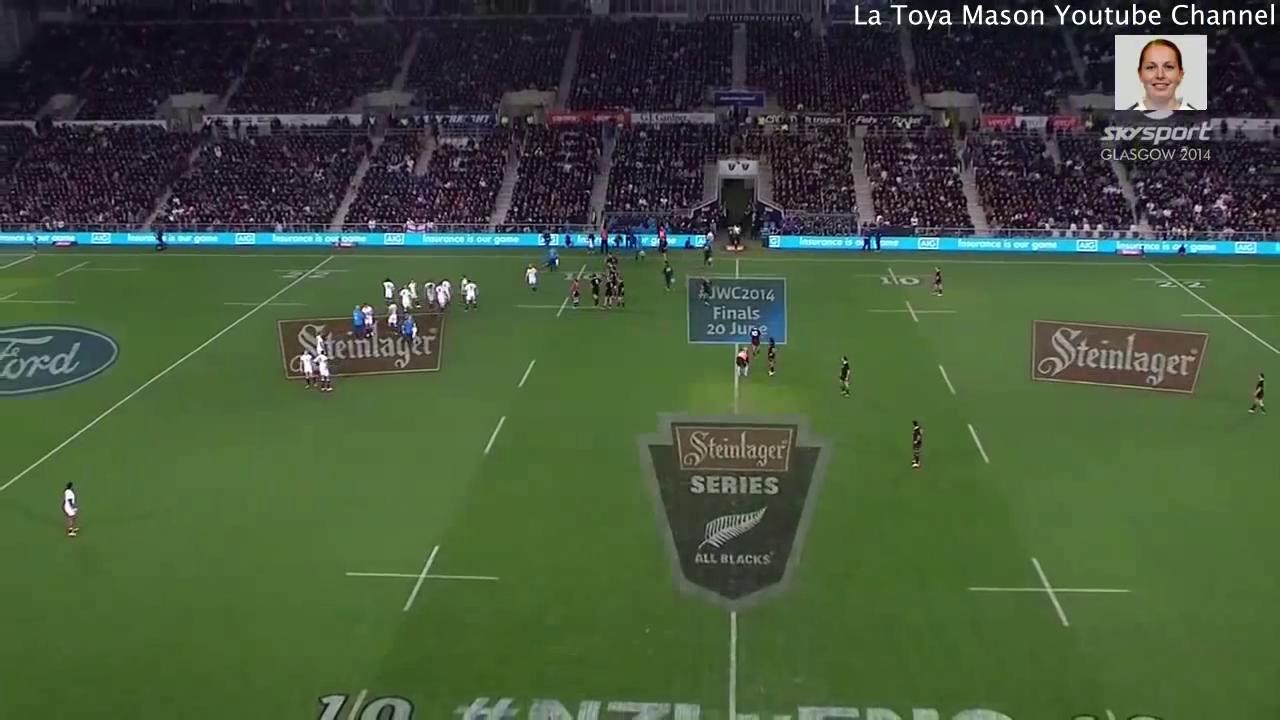10_metre: (963, 552, 1133, 633), (348, 544, 503, 617), (865, 297, 957, 325), (853, 266, 931, 291)
player: (54, 480, 84, 541), (901, 412, 929, 476), (1247, 365, 1272, 419), (834, 348, 857, 402), (657, 260, 679, 297), (765, 333, 783, 377), (316, 350, 333, 392), (522, 260, 541, 297), (730, 345, 751, 377), (929, 261, 945, 300), (601, 271, 615, 315), (567, 276, 583, 309), (349, 301, 365, 334), (589, 272, 604, 307), (399, 316, 416, 345), (382, 276, 397, 307), (604, 251, 626, 272), (383, 301, 400, 328), (465, 280, 479, 312), (698, 278, 714, 304), (364, 302, 376, 336), (613, 277, 626, 308), (301, 347, 311, 386), (396, 288, 412, 311), (750, 324, 760, 358), (701, 242, 713, 270), (437, 284, 449, 312), (424, 279, 434, 310), (439, 279, 451, 304), (314, 327, 327, 348), (409, 278, 417, 300)
